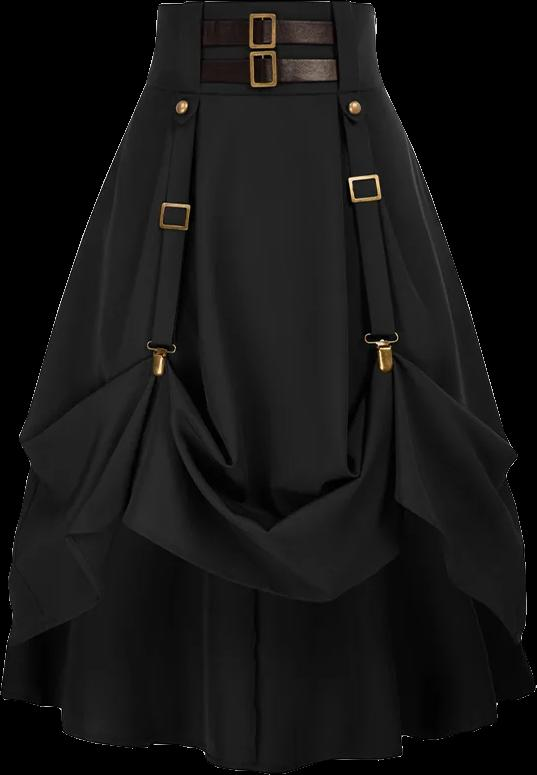Hemline: (1, 503, 524, 653)
Waistline: (141, 80, 387, 101), (158, 0, 378, 13)
